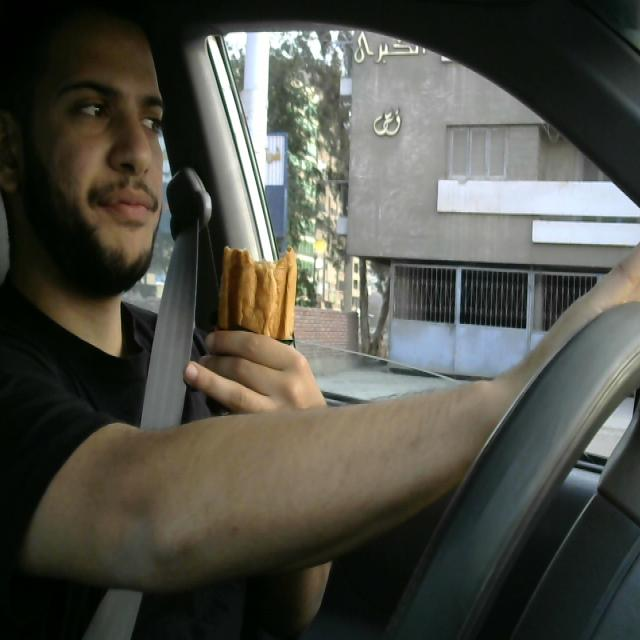eating: (215, 235, 301, 463)
